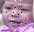without_mask: (1, 1, 34, 32)
